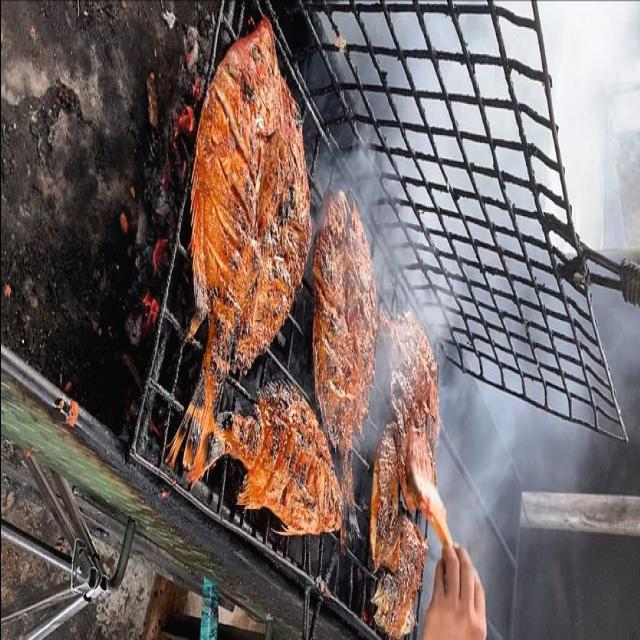ikan bakar: (172, 19, 310, 481), (169, 355, 342, 536)
